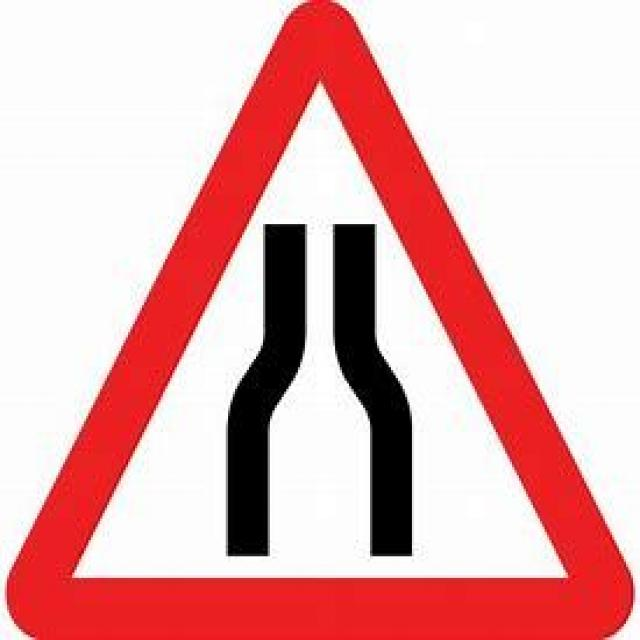NARROW_ROAD_AHEAD: (2, 0, 637, 637)
